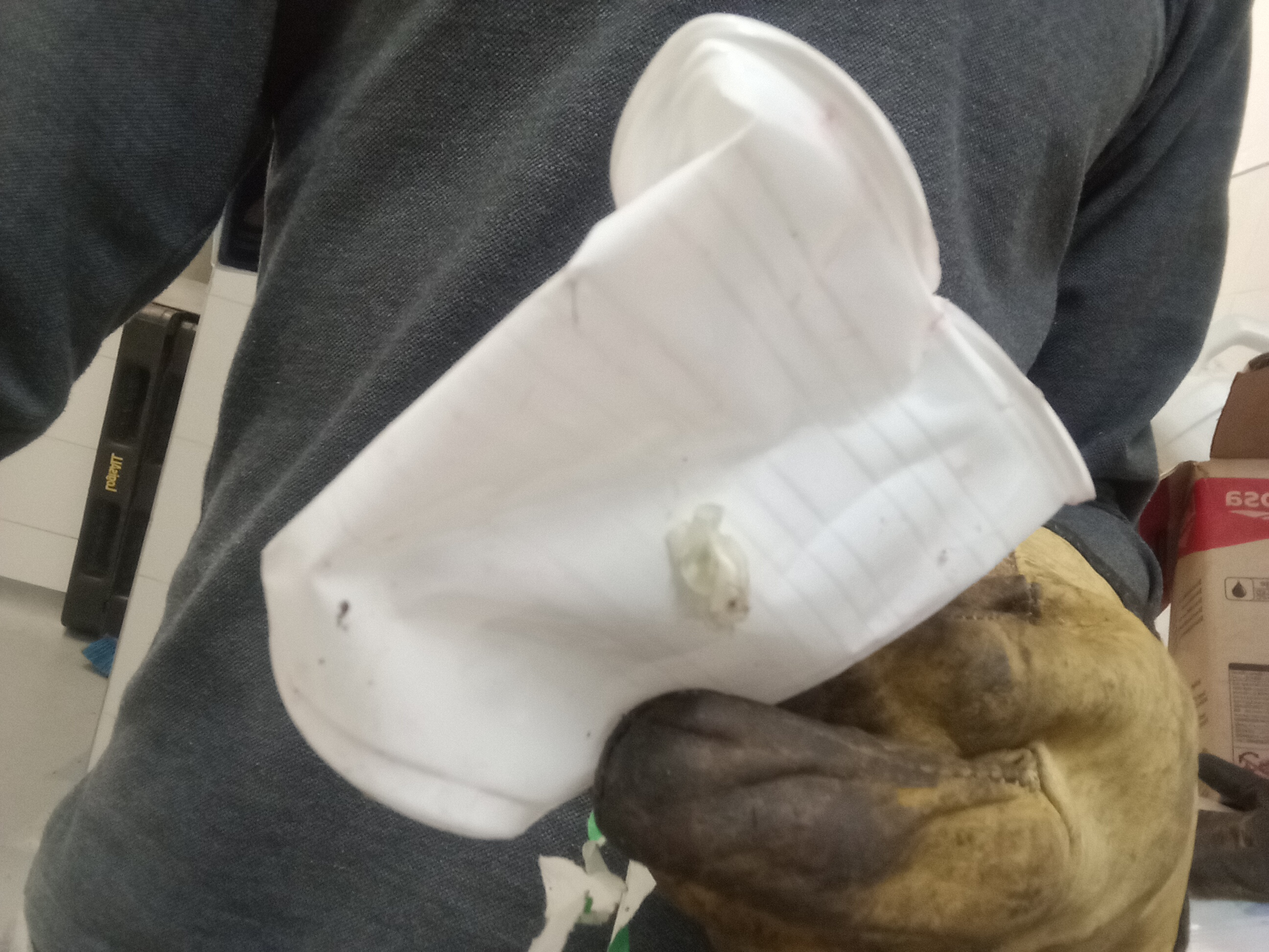Plastico: (260, 12, 1096, 842)
